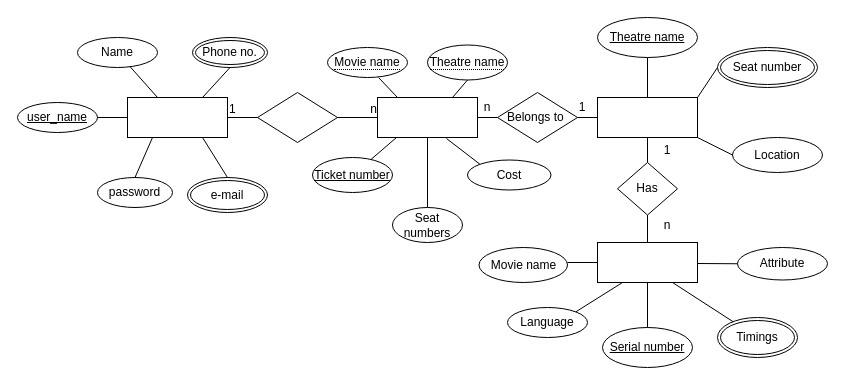
Some shapes in this 845 by 385 pixel diagram are drawn without their labels. The shapes that lost their labels are listed below. From the top down, each one's centre as x and y in pixels, then its label:
At point 177,117: "User".
At point 297,117: "Buys".
At point 427,117: "Ticket".
At point 647,117: "Theatre".
At point 647,262: "Movies".
